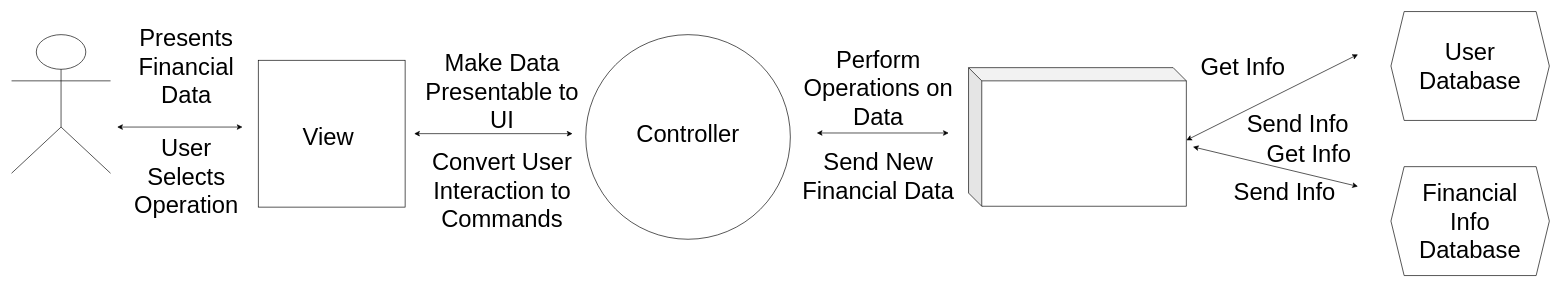
Image size: 1561x287. Some labels were removed from this diagram. The centre of each missing label's shape, as x and y in pixels:
"Model" belongs at [1077,136].
"User" belongs at [61,103].
